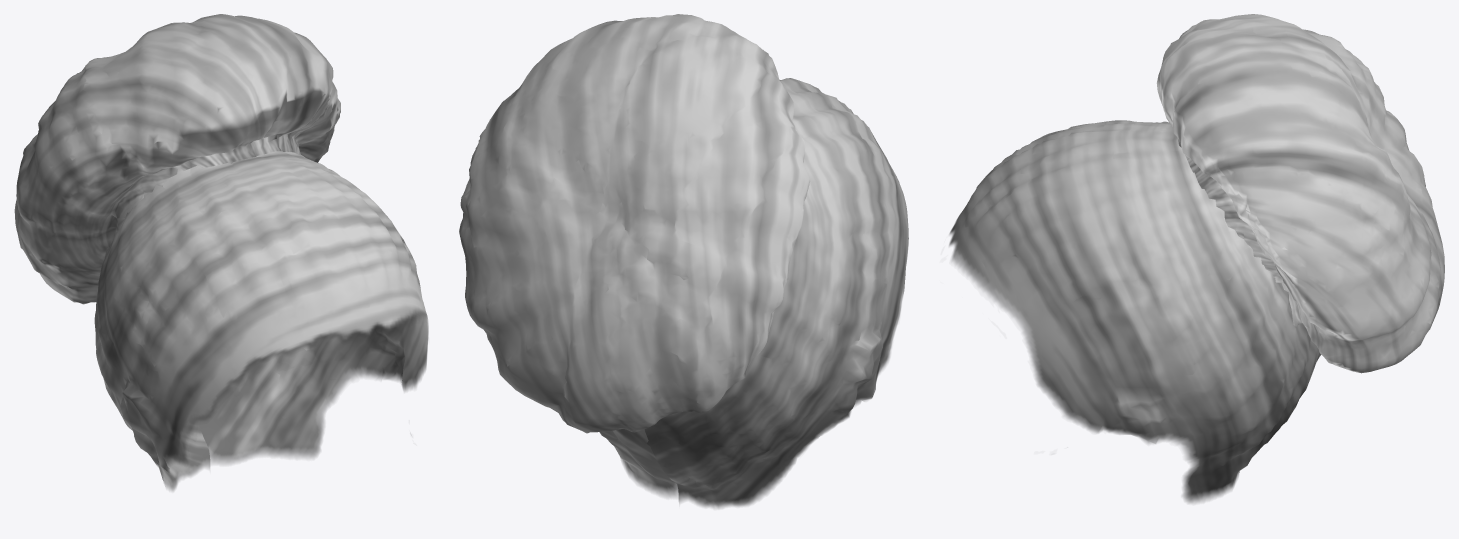
Rendered from daz_hair_crown_braid.glb.
The picture shows the model from 3 angles, left to right: view 1: azimuth 30°, elevation 25°; view 2: azimuth 150°, elevation 25°; view 3: azimuth 270°, elevation 25°; orthographic projection. The views are drawn at different scales.
Parts seen in each view (by area): view 1: daz_hair_crown_braid; view 2: daz_hair_crown_braid; view 3: daz_hair_crown_braid.
Part boxes in pixels (x1=…): daz_hair_crown_braid: x1=14, y1=14, x2=428, y2=491; daz_hair_crown_braid: x1=459, y1=14, x2=908, y2=508; daz_hair_crown_braid: x1=949, y1=14, x2=1444, y2=503.
Bounding box in the file's own units: 0.1689 × 0.2494 × 0.2487.
Materials: 1 (1 with a texture image).
